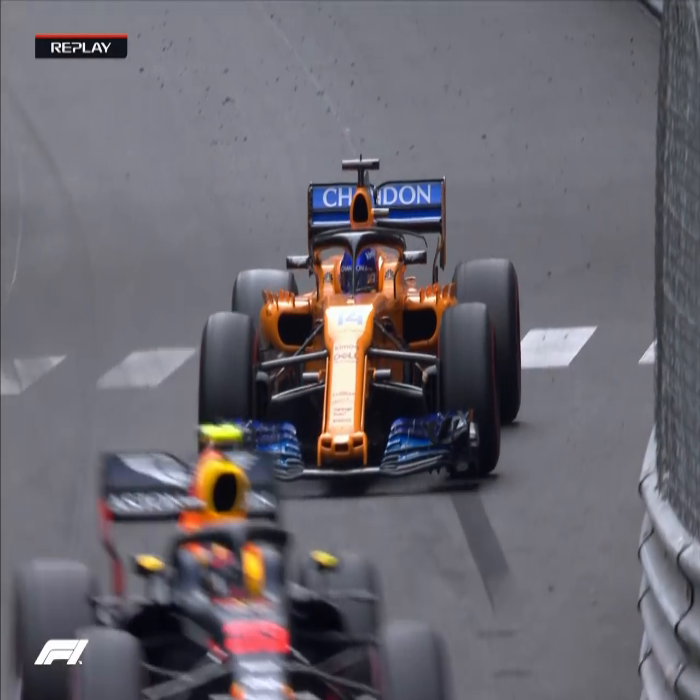f1_car: (5, 429, 462, 700), (185, 162, 539, 496)
